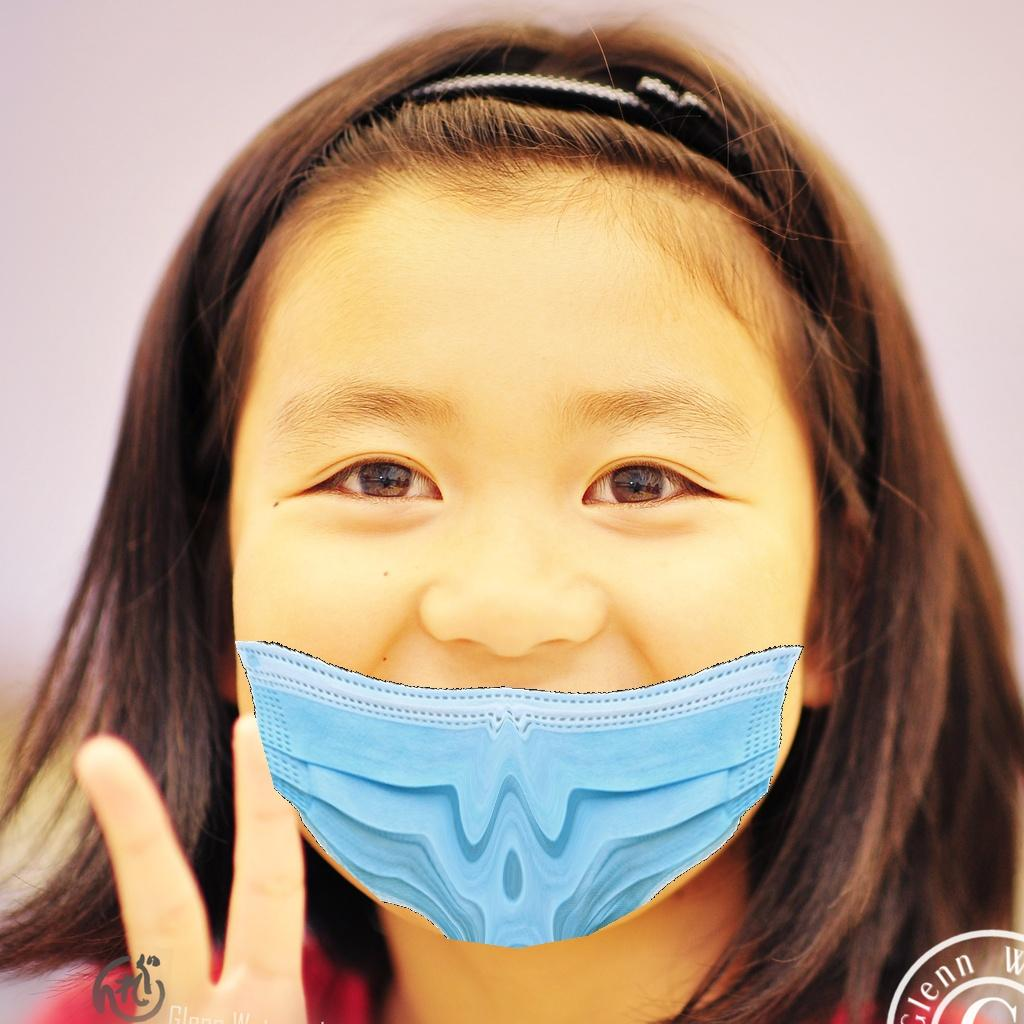Máscara Incorreta: (215, 280, 818, 927)
